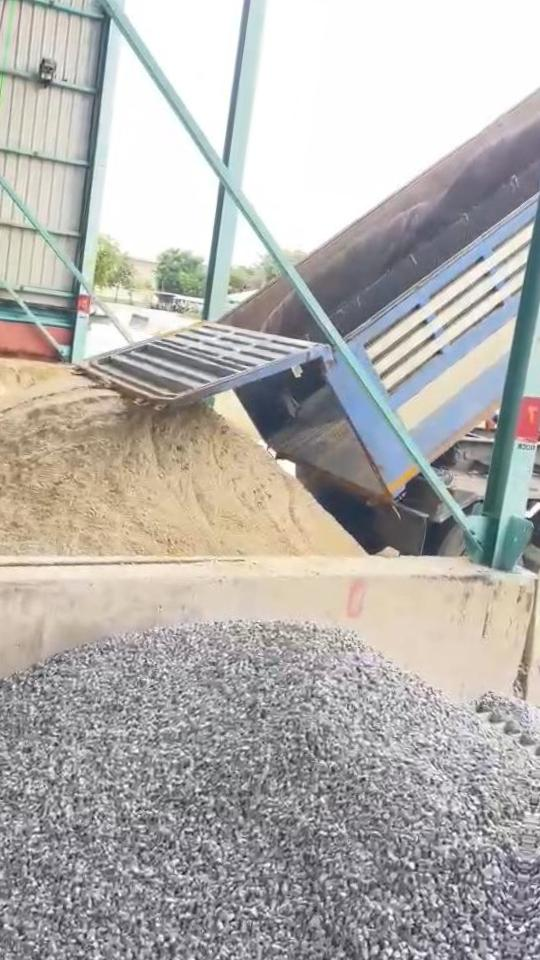gravel: (0, 623, 540, 960), (478, 694, 540, 754)
sand: (0, 384, 363, 555), (0, 355, 79, 411), (215, 393, 257, 437)
